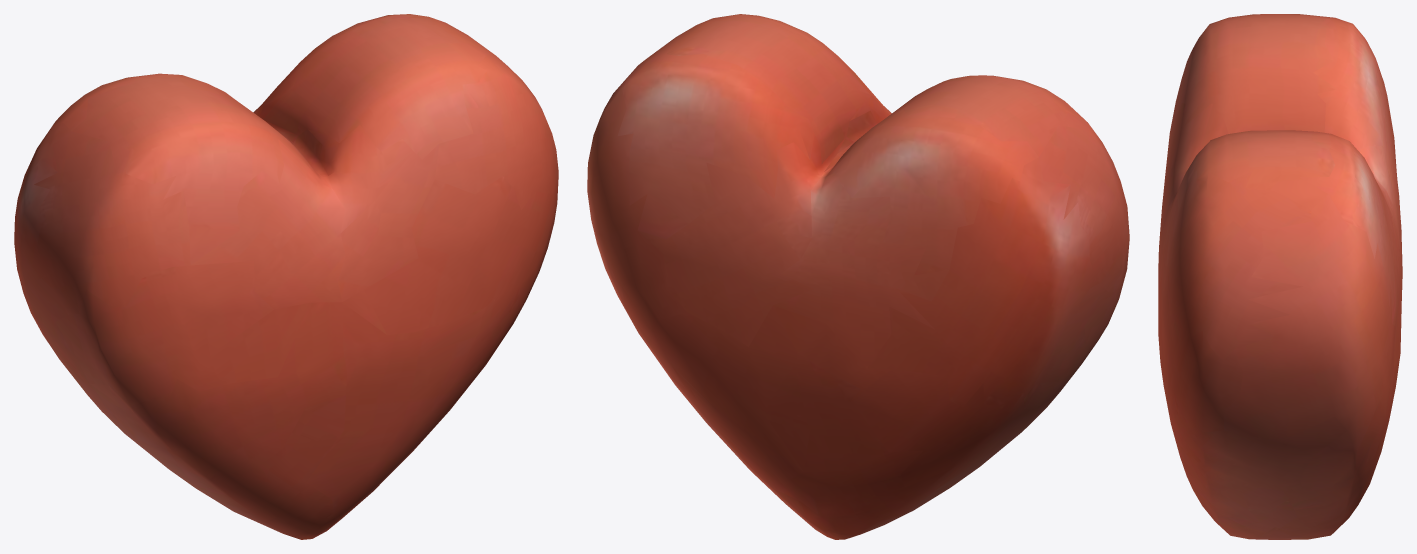
The model's file is reward_heart.glb.
3 views of the same model, side by side, from view 1: azimuth 30°, elevation 25°; view 2: azimuth 150°, elevation 25°; view 3: azimuth 270°, elevation 25° (orthographic).
Visible parts, largest first — view 1: Reward heart; view 2: Reward heart; view 3: Reward heart.
Boxes of the visible parts, x1,y1,x2,y2 form: Reward heart: (14,14,558,539); Reward heart: (587,14,1129,539); Reward heart: (1158,14,1402,539).
Bounding box in the file's own units: 0.4602 × 0.4204 × 0.2063.
1 material, 1 textured.
